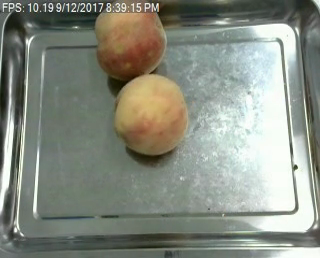Peach: (114, 72, 188, 155), (94, 0, 166, 80)
